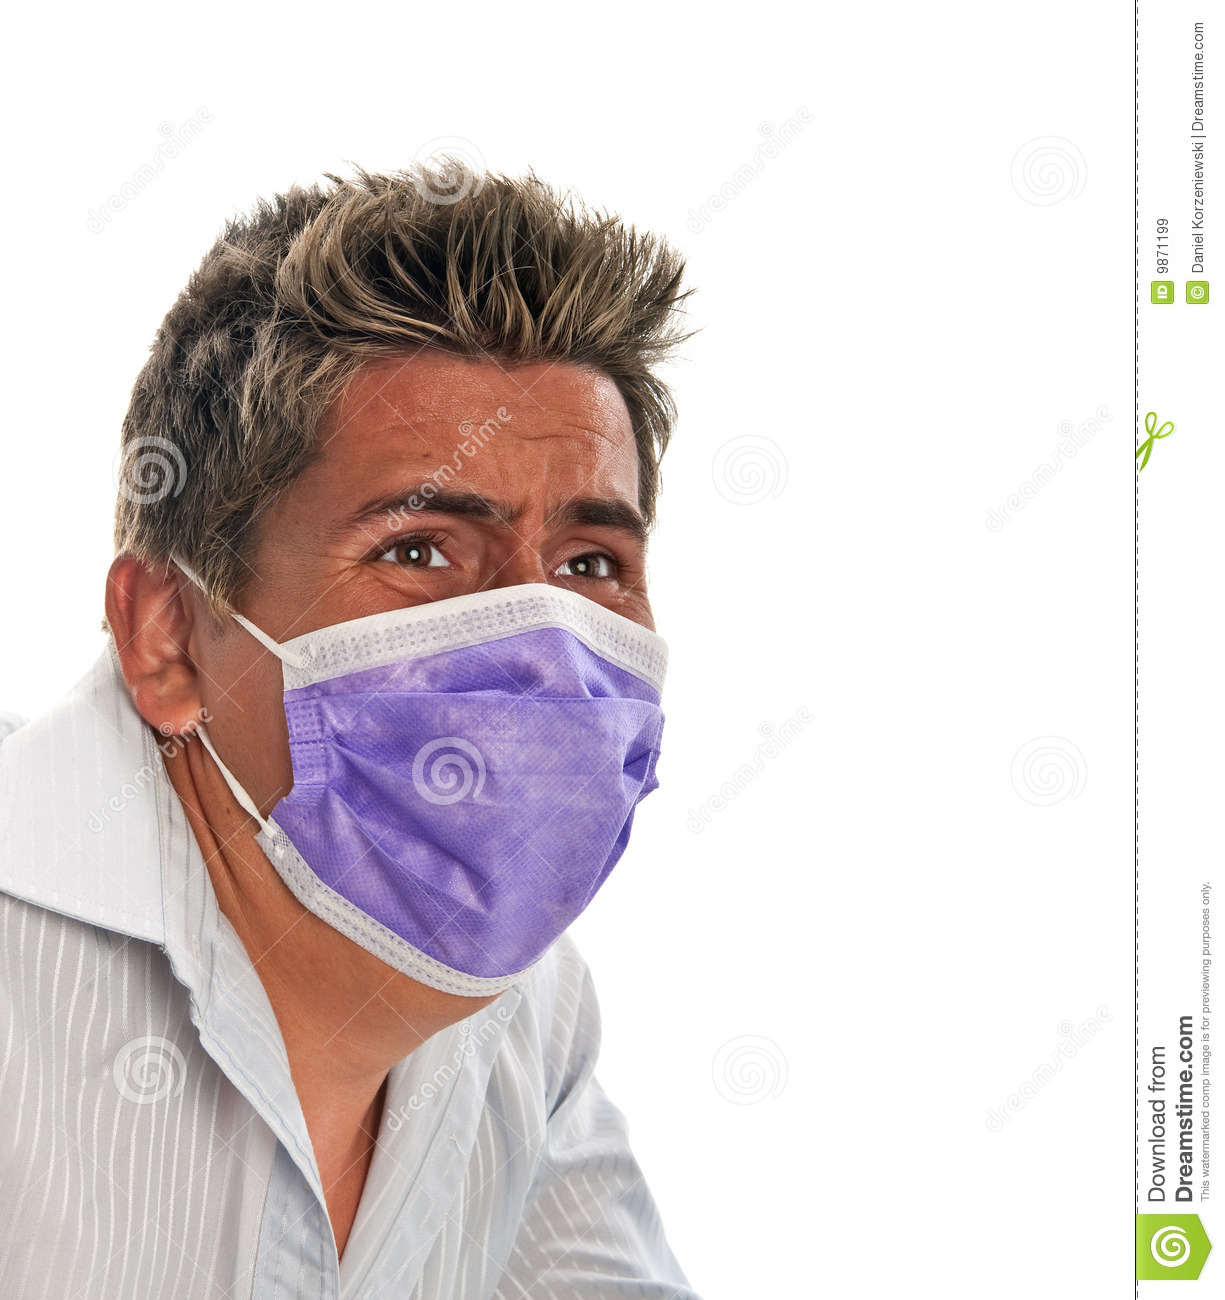mask: (277, 584, 665, 998)
